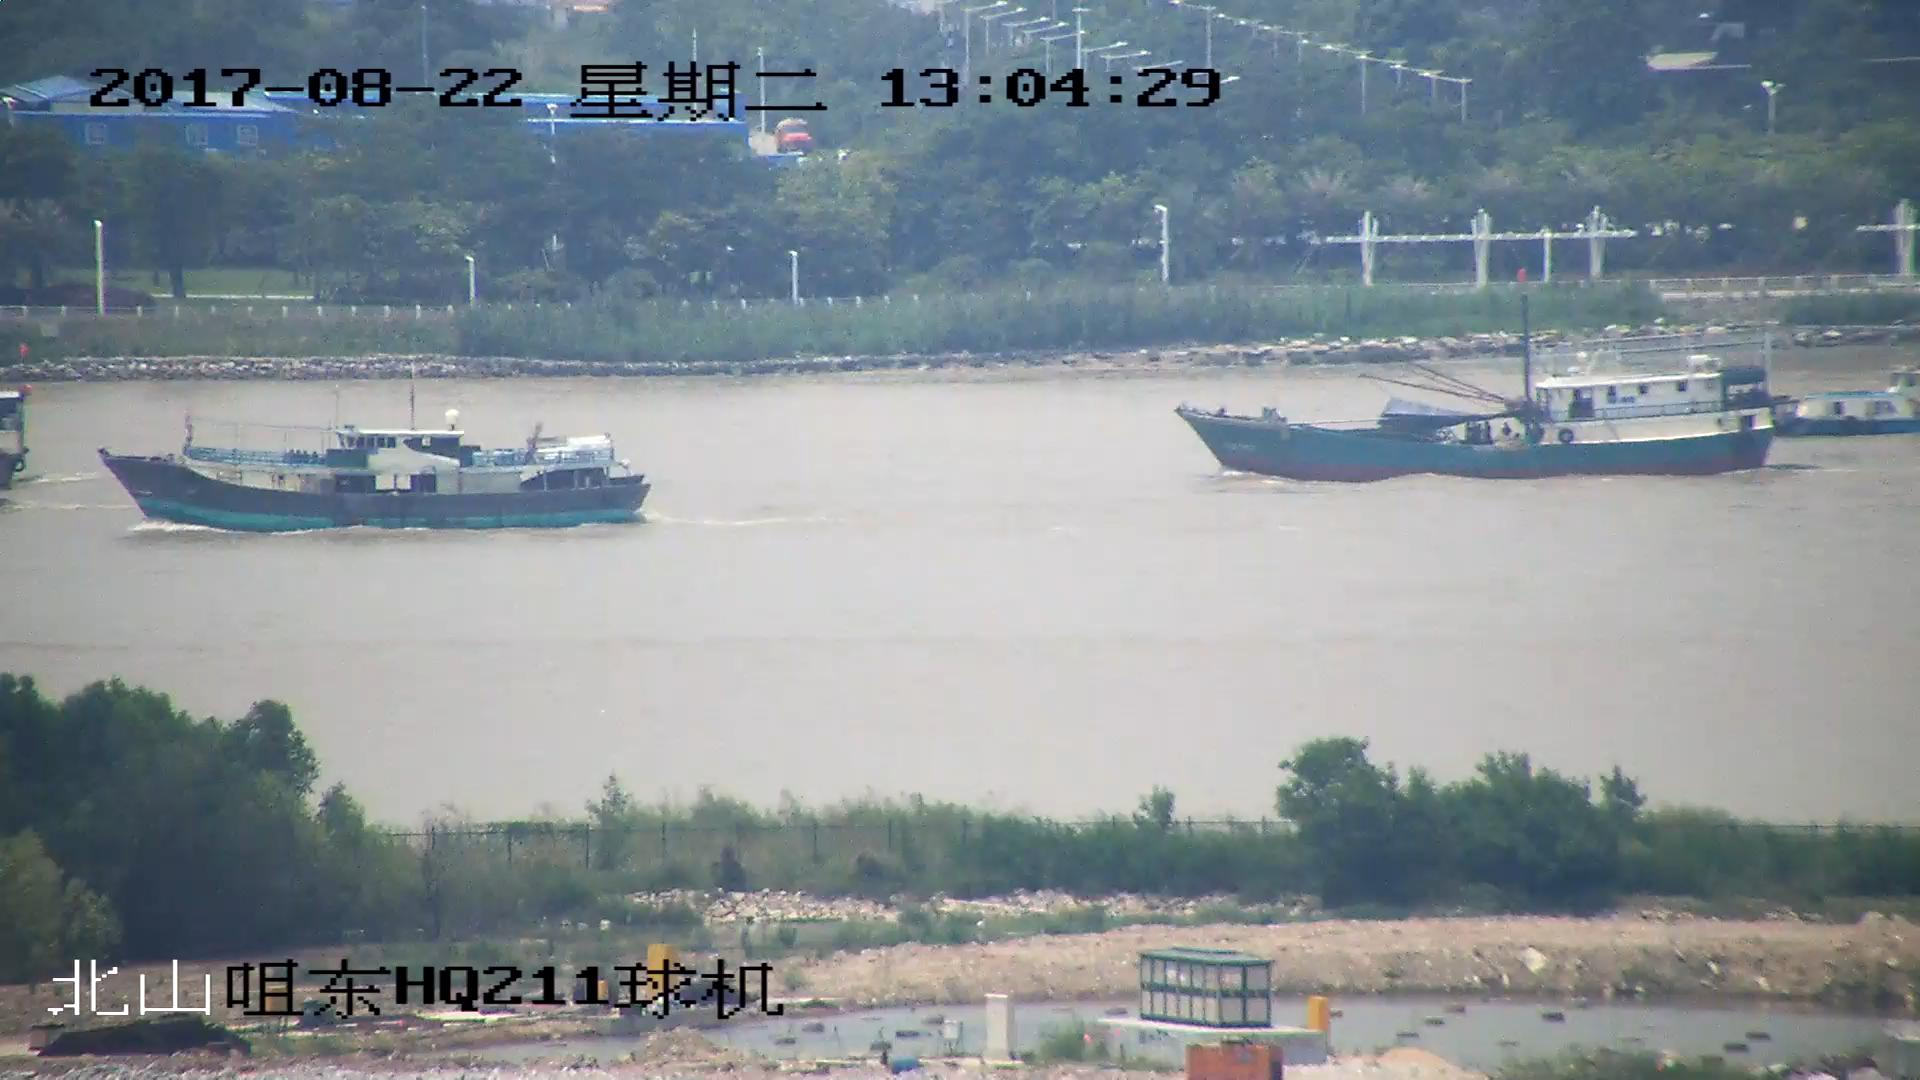fishing boat: (1176, 273, 1778, 486), (99, 401, 646, 533), (1780, 376, 1920, 436)
